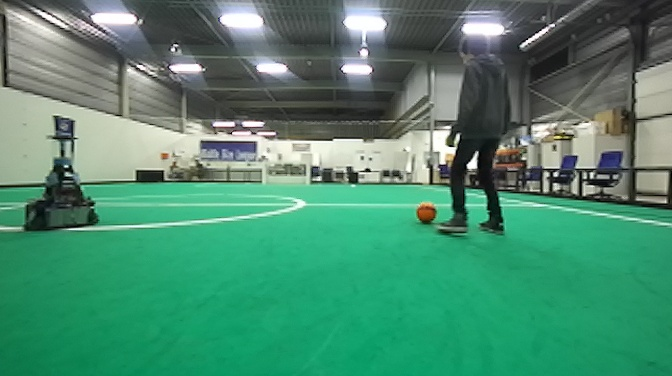ball: (411, 199, 439, 226)
goal: (261, 162, 312, 186)
goalpost: (304, 162, 311, 187), (261, 160, 267, 185)
human: (430, 30, 514, 242)
robot: (20, 113, 102, 235)
